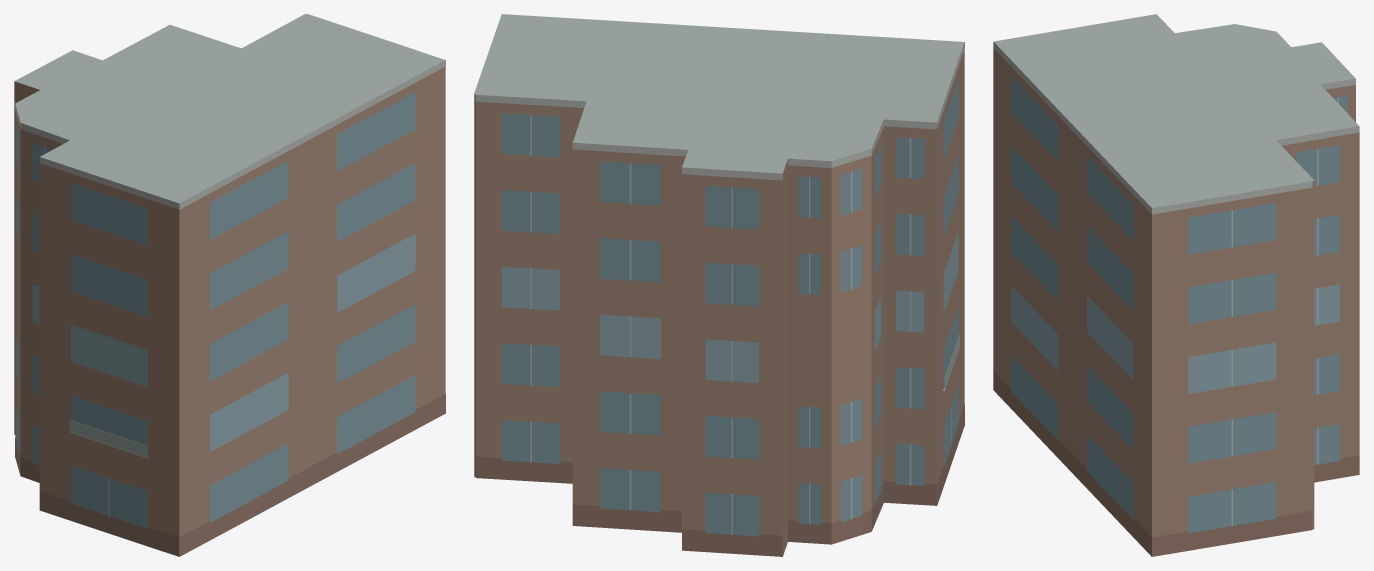
Rendered from survey-upis-32529752.glb.
The picture shows the model from 3 angles, left to right: view 1: azimuth 30°, elevation 25°; view 2: azimuth 150°, elevation 25°; view 3: azimuth 270°, elevation 25°; orthographic projection. The views are drawn at different scales.
Parts seen in each view (by area): view 1: survey-upis-32529752.tmp; view 2: survey-upis-32529752.tmp; view 3: survey-upis-32529752.tmp.
Boxes of the visible parts, bbox=[...] form: survey-upis-32529752.tmp: bbox=[14, 14, 445, 556]; survey-upis-32529752.tmp: bbox=[474, 14, 964, 556]; survey-upis-32529752.tmp: bbox=[993, 14, 1359, 556].
Size of the model in its own units: 16.39 by 13.7 by 13.05.
